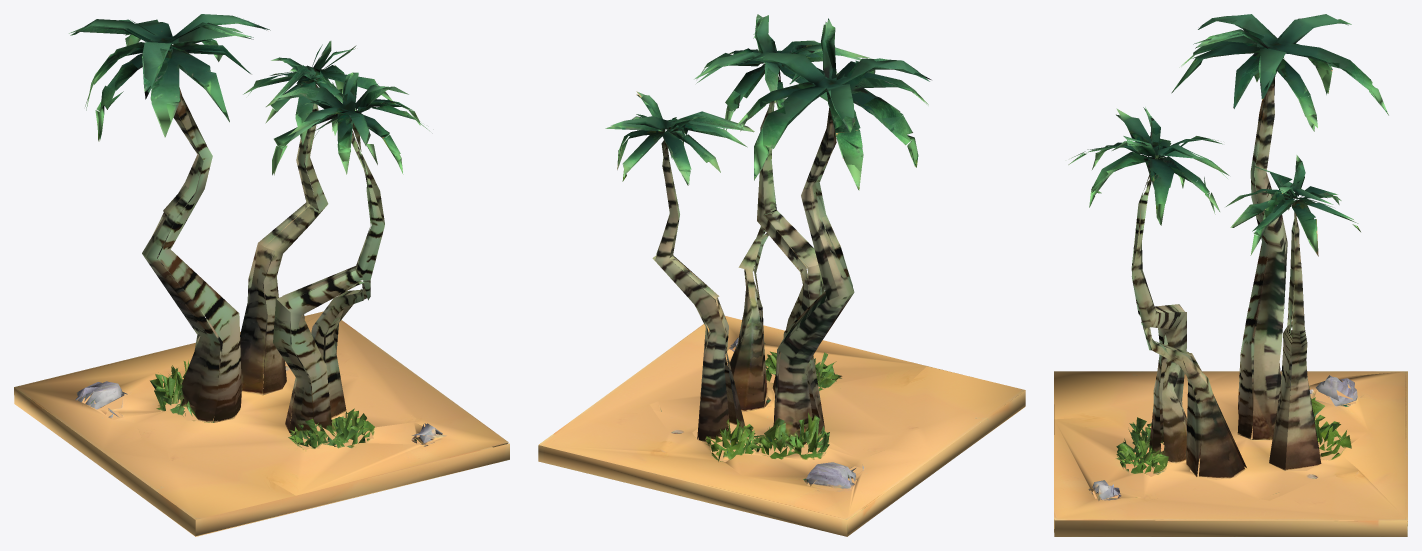
The model's file is palm2.1.glb.
The picture shows the model from 3 angles, left to right: view 1: azimuth 30°, elevation 25°; view 2: azimuth 150°, elevation 25°; view 3: azimuth 270°, elevation 25°; orthographic projection. The views are drawn at different scales.
Parts seen in each view (by area): view 1: palm2; view 2: palm2; view 3: palm2.
Part boxes in pixels (x1=…): palm2: x1=14, y1=14, x2=509, y2=536; palm2: x1=538, y1=14, x2=1025, y2=536; palm2: x1=1054, y1=14, x2=1407, y2=536.
Size of the model in its own units: 1.5 by 1.91 by 1.5.
Materials: 1 (1 with a texture image).
